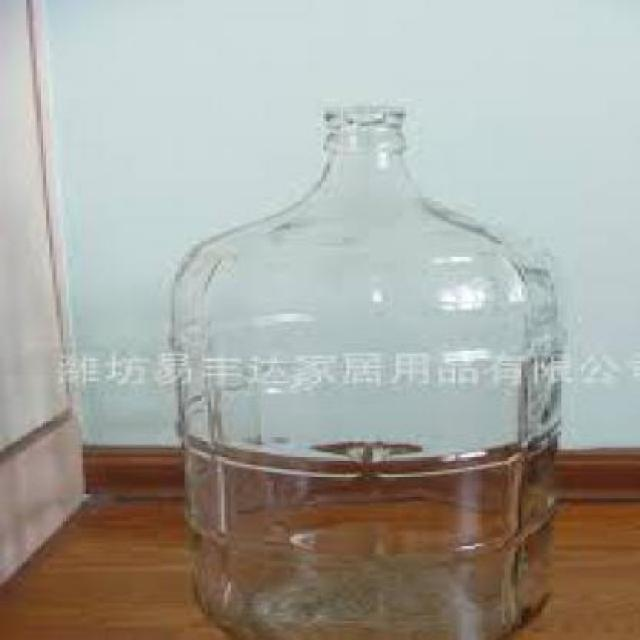kaca: (161, 104, 557, 638)
